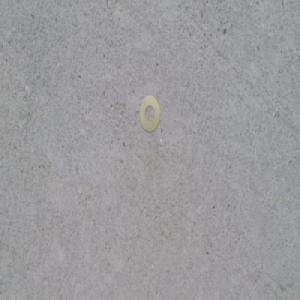Washer: (136, 94, 159, 135)
